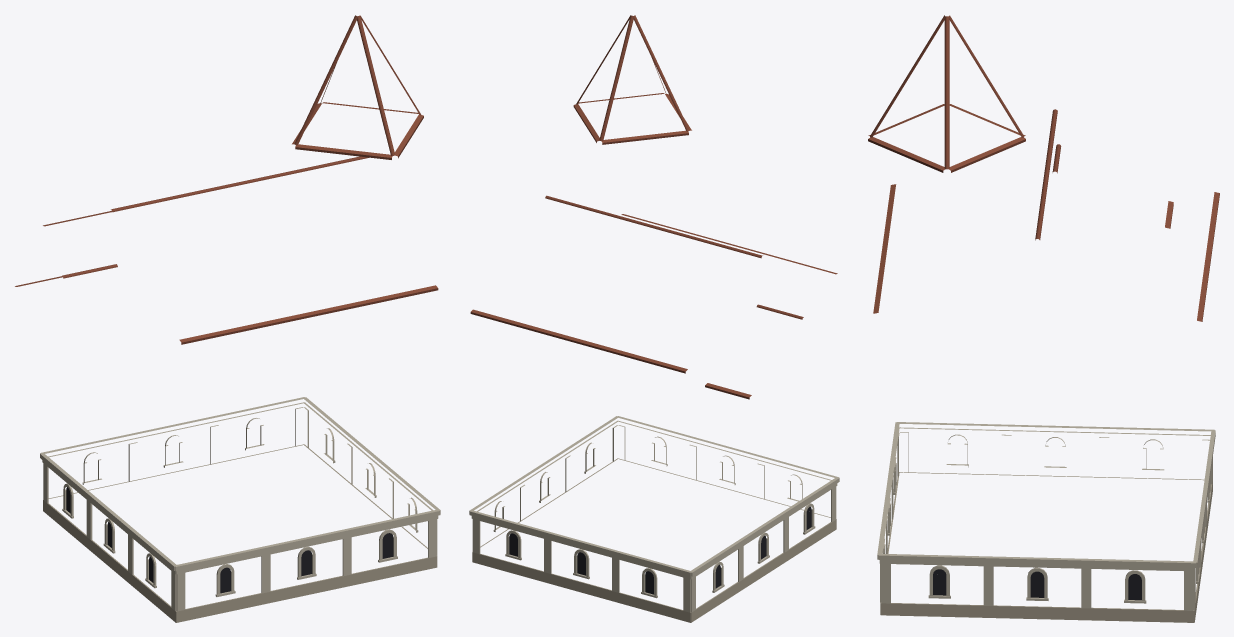
The picture shows the model from 3 angles, left to right: view 1: azimuth 30°, elevation 25°; view 2: azimuth 150°, elevation 25°; view 3: azimuth 270°, elevation 25°; orthographic projection. The views are drawn at different scales.
Visible parts, largest first — view 1: detail; view 2: detail; view 3: detail.
Boxes of the visible parts, left/top/right/bottom form: detail: left=15, top=15, right=440, bottom=622; detail: left=469, top=15, right=839, bottom=622; detail: left=868, top=15, right=1219, bottom=622.
Bounding box in the file's own units: 22.65 × 37.94 × 21.03.
